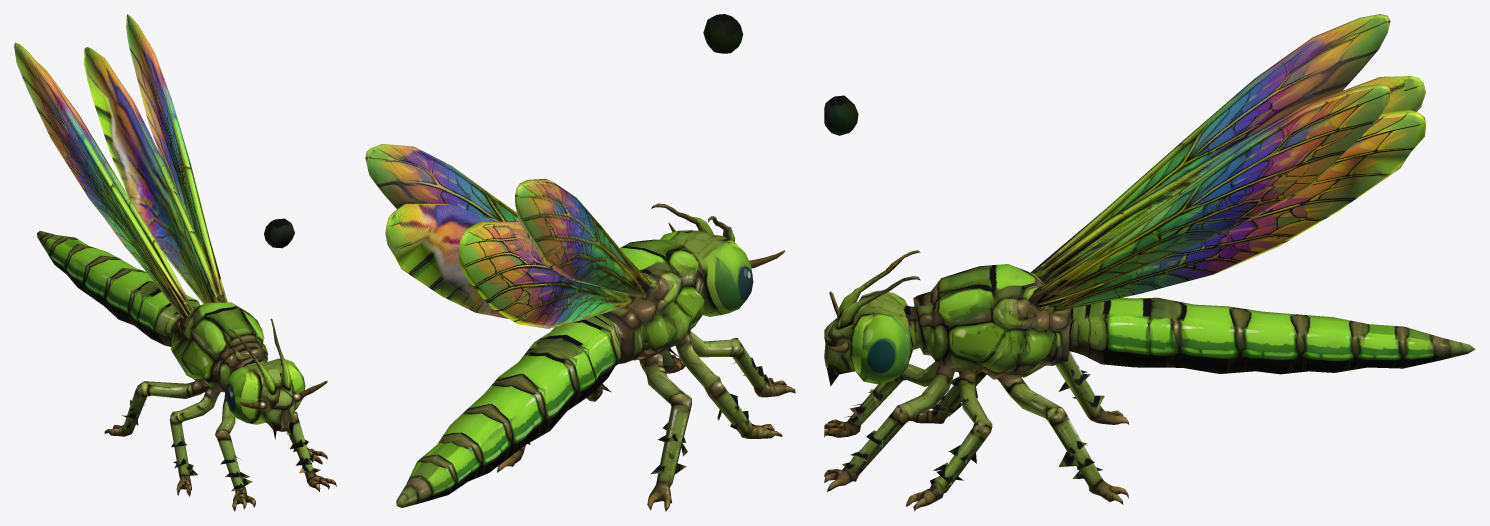
The model's file is CRT-009.glb.
3 views of the same model, side by side, from view 1: azimuth 30°, elevation 25°; view 2: azimuth 150°, elevation 25°; view 3: azimuth 270°, elevation 25° (orthographic). The views are drawn at different scales.
Visible parts, largest first — view 1: mesh_node; view 2: mesh_node; view 3: mesh_node.
Boxes of the visible parts, x1=… form: mesh_node: x1=14, y1=14, x2=336, y2=511; mesh_node: x1=365, y1=14, x2=795, y2=511; mesh_node: x1=824, y1=14, x2=1475, y2=511.
Bounding box in the file's own units: 0.3486 × 0.7031 × 1.
1 material, 1 textured.
